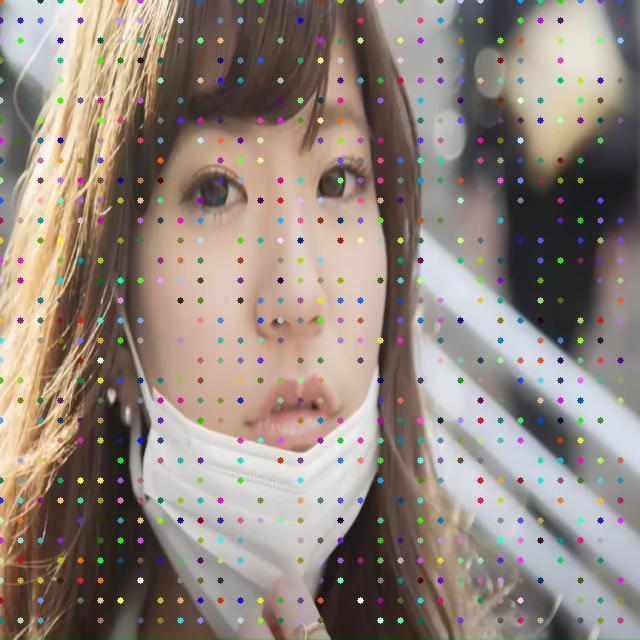hairnet: (154, 94, 380, 566)
